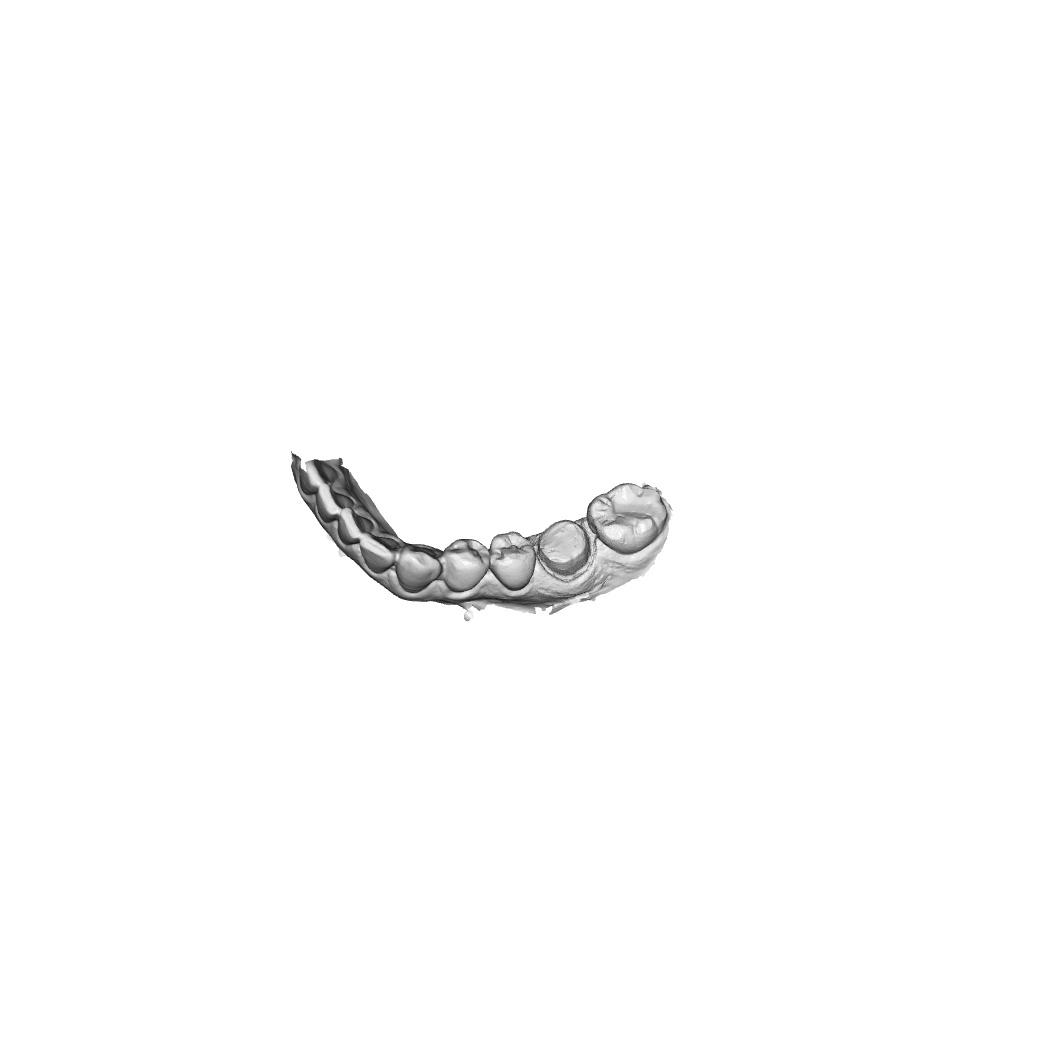canine: (395, 543, 443, 594)
crown: (536, 518, 595, 584)
incisor: (359, 536, 402, 574), (316, 483, 355, 524), (336, 506, 375, 545), (299, 458, 339, 496)
molar: (585, 481, 668, 556)
premolar: (488, 529, 537, 592), (441, 537, 491, 593)
